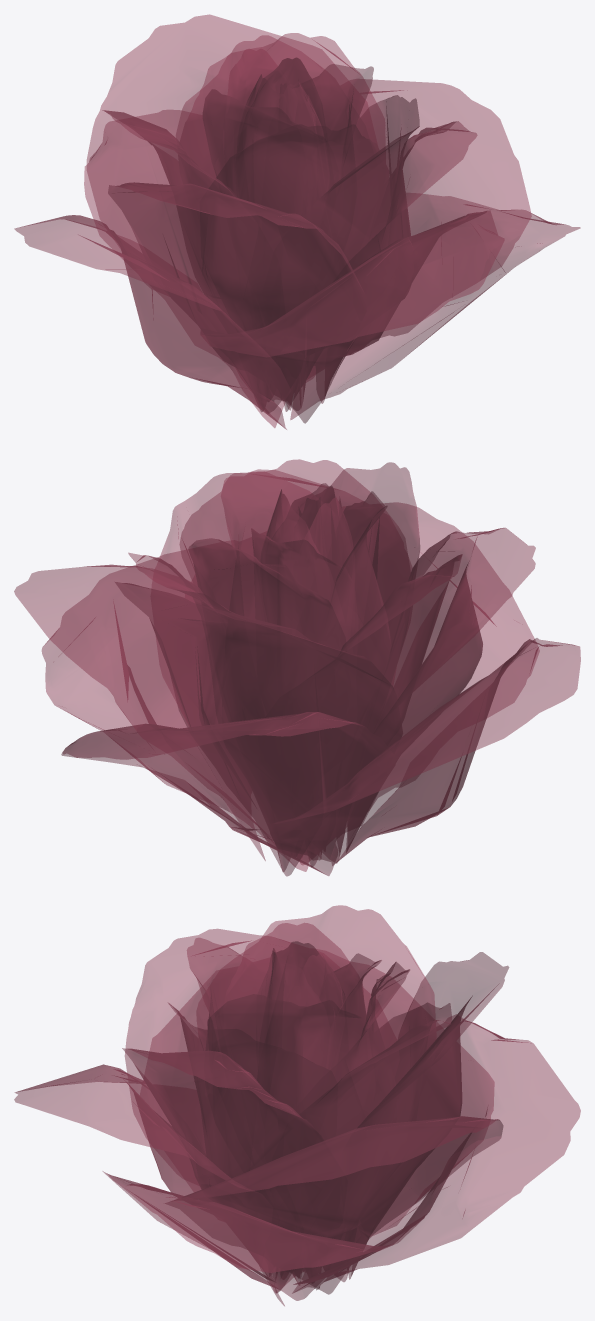
File: roseRedSimple.glb
3 renders of one model, top to bottom at view 1: azimuth 30°, elevation 25°; view 2: azimuth 150°, elevation 25°; view 3: azimuth 270°, elevation 25°, orthographic. The views are drawn at different scales.
Parts seen in each view (by area): view 1: Plane.031, Plane.039, Plane.037, Plane.033, Plane.041, Plane.023, Plane.029, Plane.025, Plane.015, Plane.045, Plane.021, Plane.035 (+8 smaller); view 2: Plane.033, Plane.043, Plane.041, Plane.037, Plane.045, Plane.031, Plane.025, Plane.029, Plane.027, Plane.035, Plane.021, Plane.039 (+8 smaller); view 3: Plane.043, Plane.037, Plane.035, Plane.033, Plane.029, Plane.031, Plane.025, Plane.017, Plane.045, Plane.039, Plane.027, Plane.021 (+8 smaller).
Part boxes in pixels (x1,y1,x2,y2): Plane.031: [108, 182, 366, 413]; Plane.039: [200, 210, 504, 423]; Plane.037: [347, 79, 531, 350]; Plane.033: [86, 14, 368, 323]; Plane.041: [14, 215, 291, 429]; Plane.023: [200, 124, 388, 410]; Plane.029: [274, 95, 419, 393]; Plane.025: [102, 110, 285, 411]; Plane.015: [202, 89, 338, 411]; Plane.045: [290, 194, 580, 419]; Plane.021: [178, 35, 373, 188]; Plane.035: [313, 121, 477, 403]; Plane.033: [115, 582, 402, 876]; Plane.043: [61, 712, 395, 875]; Plane.041: [268, 638, 580, 865]; Plane.037: [14, 564, 265, 860]; Plane.045: [41, 551, 308, 871]; Plane.031: [346, 527, 535, 852]; Plane.025: [265, 554, 462, 863]; Plane.029: [179, 459, 412, 724]; Plane.027: [128, 552, 332, 871]; Plane.035: [150, 469, 411, 726]; Plane.021: [188, 538, 346, 855]; Plane.039: [185, 502, 539, 864]; Plane.043: [292, 1014, 580, 1293]; Plane.037: [165, 1116, 503, 1294]; Plane.035: [122, 1048, 347, 1292]; Plane.033: [340, 952, 509, 1279]; Plane.029: [168, 1003, 337, 1285]; Plane.031: [124, 928, 387, 1185]; Plane.025: [196, 905, 436, 1095]; Plane.017: [207, 994, 379, 1128]; Plane.045: [102, 1171, 424, 1300]; Plane.039: [14, 1064, 284, 1306]; Plane.027: [299, 1002, 451, 1281]; Plane.021: [295, 962, 409, 1269].
Size of the model in its own units: 14.49 by 9.78 by 14.16.
